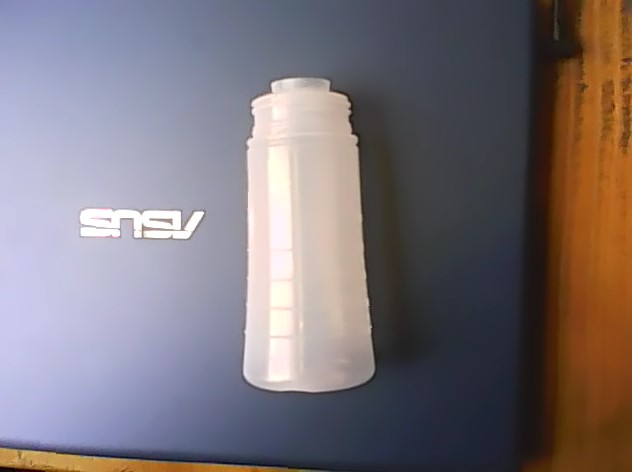Plastic: (243, 77, 380, 399)
